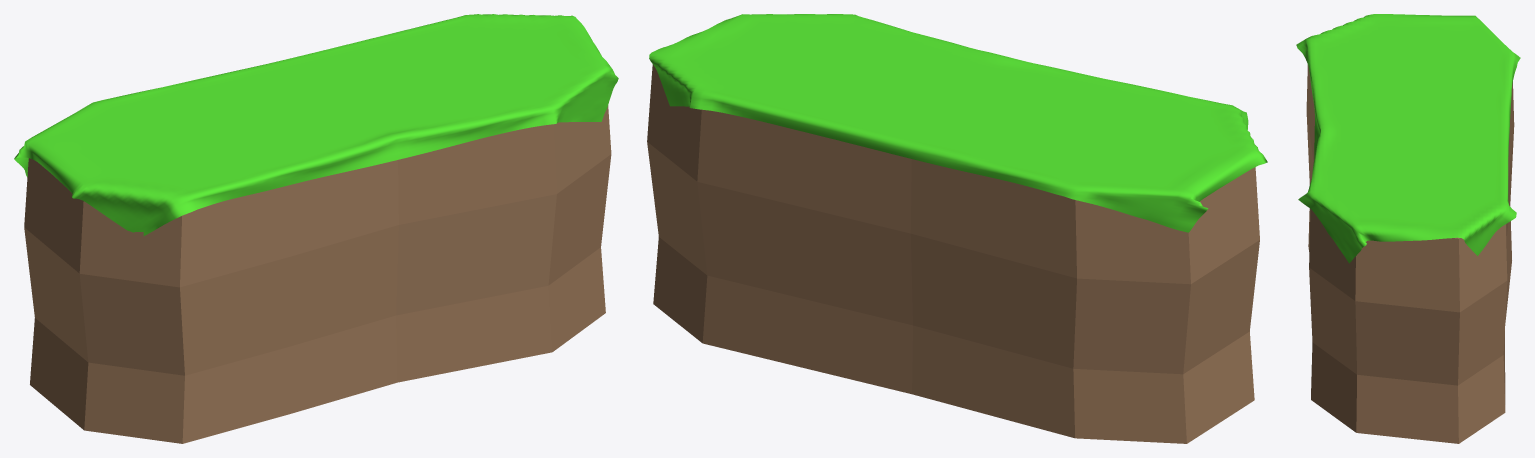
File: Bloc01.fbx
3 views of the same model, side by side, from view 1: azimuth 30°, elevation 25°; view 2: azimuth 150°, elevation 25°; view 3: azimuth 270°, elevation 25° (orthographic). The views are drawn at different scales.
Parts seen in each view (by area): view 1: Bloc01; view 2: Bloc01; view 3: Bloc01.
Part boxes in pixels (x1=…): Bloc01: x1=14, y1=14, x2=618, y2=443; Bloc01: x1=647, y1=14, x2=1267, y2=443; Bloc01: x1=1296, y1=14, x2=1520, y2=443.
Size of the model in its own units: 1145 by 488 by 474.
